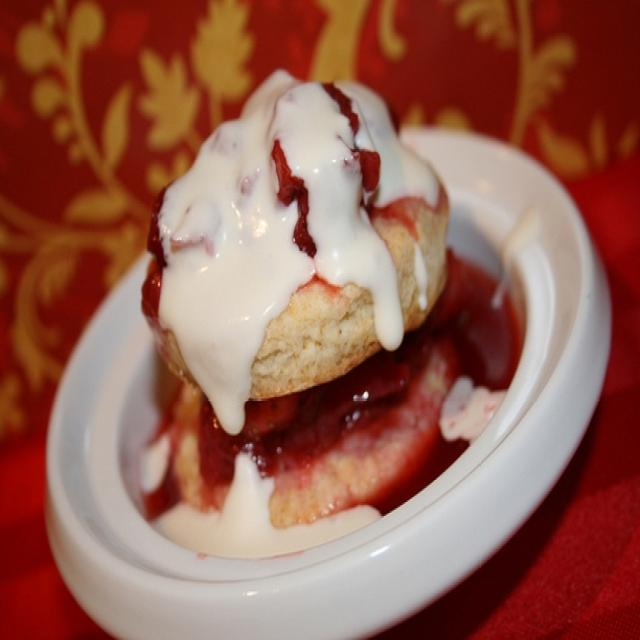蛋糕甜品: (33, 42, 617, 629)
